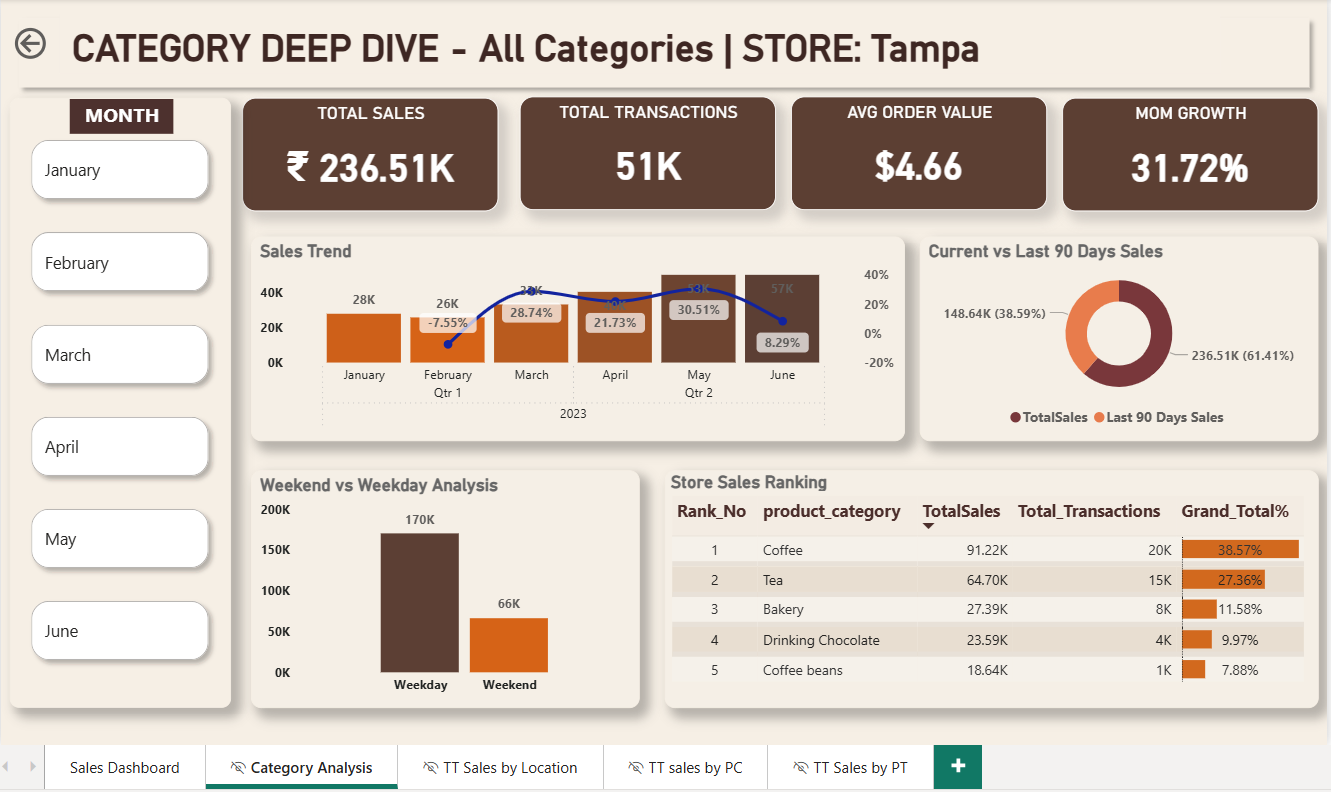

This screenshot's page, from the dashboard's own definition file:
{"tool":"powerbi","page":{"name":"Category Analysis","canvas":[1280,720],"ordinal":1},"visuals":[{"type":"shape","box":[8.4,9.7,1263.1,84.5],"z":0},{"type":"actionButton","box":[8.4,22.9,100.1,39.8],"z":1000},{"type":"card","title":"TOTAL SALES","fields":{"Values":["BilingCoffeesales.TotalSales"]},"box":[232.8,95.3,247.3,109.8],"z":2000},{"type":"card","title":"TOTAL TRANSACTIONS","fields":{"Values":["BilingCoffeesales.Total_Transactions"]},"box":[500.7,94.1,247.3,109.8],"z":3000},{"type":"card","title":"AVG ORDER VALUE","fields":{"Values":["BilingCoffeesales.Avg Order Value"]},"box":[762.5,94.1,247.3,109.8],"z":4000},{"type":"card","title":"MOM GROWTH","fields":{"Values":["BilingCoffeesales.Sales Growth %"]},"box":[1024.3,95.3,247.3,109.8],"z":5000},{"type":"advancedSlicerVisual","title":"MONTH","fields":{"Values":["Data.Month Name"]},"box":[8.4,95.3,213.5,588.7],"z":6000},{"type":"lineClusteredColumnComboChart","title":"Sales Trend","fields":{"Y":["BilingCoffeesales.TotalSales"],"Y2":["BilingCoffeesales.Sales Growth %"],"Category":["Data.transaction_date.Variation.Date Hierarchy.Year","Data.transaction_date.Variation.Date Hierarchy.Quarter","Data.transaction_date.Variation.Date Hierarchy.Month","Data.transaction_date.Variation.Date Hierarchy.Day"]},"box":[241.3,229.2,631,197.9],"z":7000},{"type":"columnChart","title":"Weekend vs Weekday Analysis","fields":{"Category":["Data.Day Type"],"Y":["BilingCoffeesales.TotalSales"]},"box":[241.3,454.8,375.2,229.2],"z":8000},{"type":"donutChart","title":"Current vs Last 90 Days Sales","fields":{"Y":["BilingCoffeesales.TotalSales","Data.Last 90 Days Sales"]},"box":[886.7,229.2,384.9,197.9],"z":9000},{"type":"cardVisual","fields":{"Data":["BilingCoffeesales.Dynamic Title"]},"box":[51.9,9.7,1130.4,67.6],"z":10000},{"type":"actionButton","box":[66.4,96.5,100.1,33.8],"z":12500},{"type":"tableEx","title":"Store Sales Ranking","fields":{"Values":["BilingCoffeesales.RankC","Product.product_category","BilingCoffeesales.TotalSales","BilingCoffeesales.Total_Transactions","BilingCoffeesales.GT%"]},"box":[640.6,454.8,631,229.2],"z":13000},{"type":"textbox","box":[76,94.1,127.9,55.5],"z":13500}]}

Visuals, with their boxes on the page's 1280x720 design canvas (x1, y1, x2, y2). These are canvas units, not pixel positions in the 1331x792 screenshot, which may show the page scaled, cropped or inside an application window:
shape: bbox=[8, 10, 1272, 94]
actionButton: bbox=[8, 23, 108, 63]
"TOTAL SALES" card: bbox=[233, 95, 480, 205]
"TOTAL TRANSACTIONS" card: bbox=[501, 94, 748, 204]
"AVG ORDER VALUE" card: bbox=[762, 94, 1010, 204]
"MOM GROWTH" card: bbox=[1024, 95, 1272, 205]
"MONTH" advancedSlicerVisual: bbox=[8, 95, 222, 684]
"Sales Trend" lineClusteredColumnComboChart: bbox=[241, 229, 872, 427]
"Weekend vs Weekday Analysis" columnChart: bbox=[241, 455, 616, 684]
"Current vs Last 90 Days Sales" donutChart: bbox=[887, 229, 1272, 427]
cardVisual - BilingCoffeesales.Dynamic Title: bbox=[52, 10, 1182, 77]
actionButton: bbox=[66, 96, 166, 130]
"Store Sales Ranking" tableEx: bbox=[641, 455, 1272, 684]
textbox: bbox=[76, 94, 204, 150]
